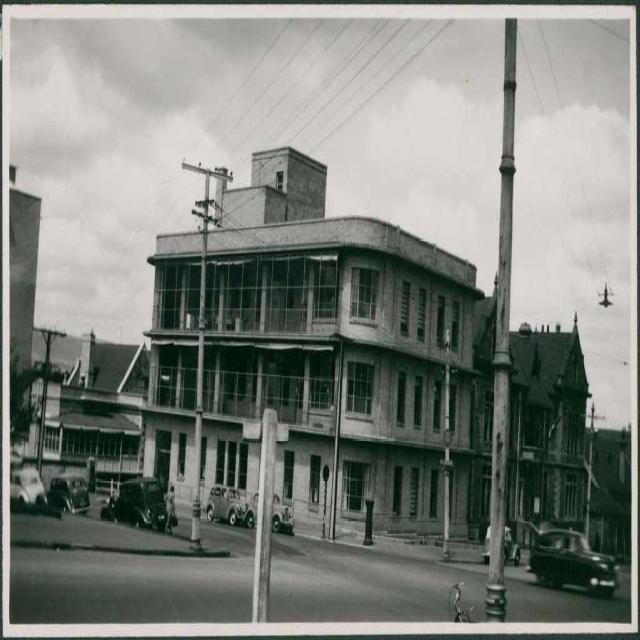car: (525, 529, 620, 599), (98, 475, 175, 533), (206, 482, 254, 524), (45, 470, 90, 512), (4, 466, 49, 506), (258, 490, 292, 534)
